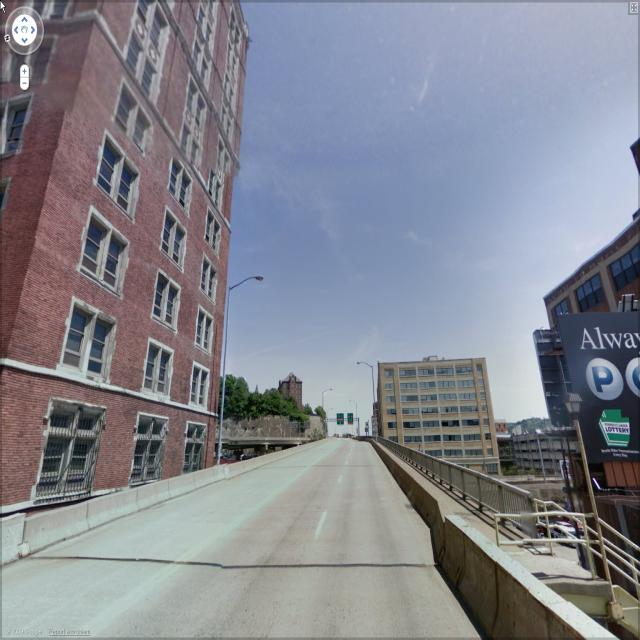b_1: (1, 7, 255, 467), (376, 352, 504, 482), (269, 367, 303, 415)
